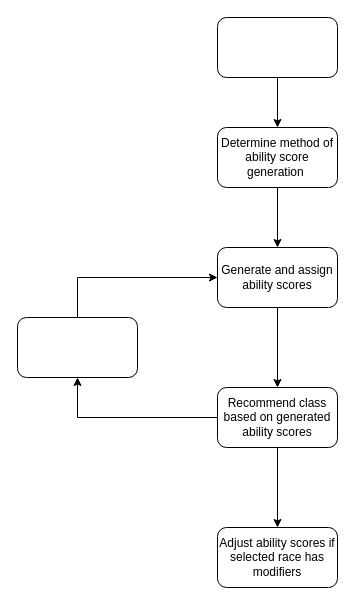
The diagram is 363 pixels wide and 613 high, and some of its shapes have lost their labels. The centre of each missing label's shape, as x and y in pixels:
"Choose race" goes at pixel 277 47.
"If ability score total does not meet a minimum threshold recommend a reroll" goes at pixel 77 347.
